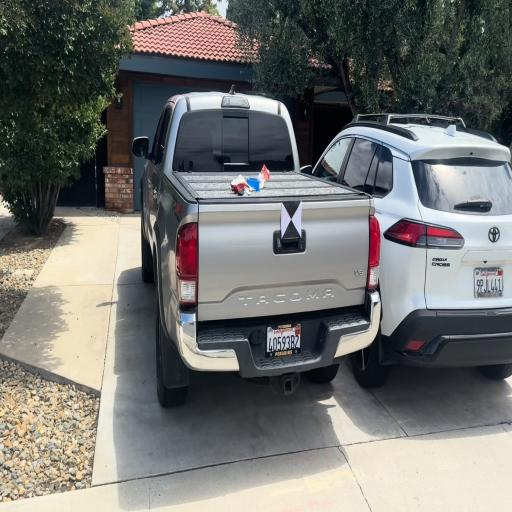target: (282, 200, 302, 238)
